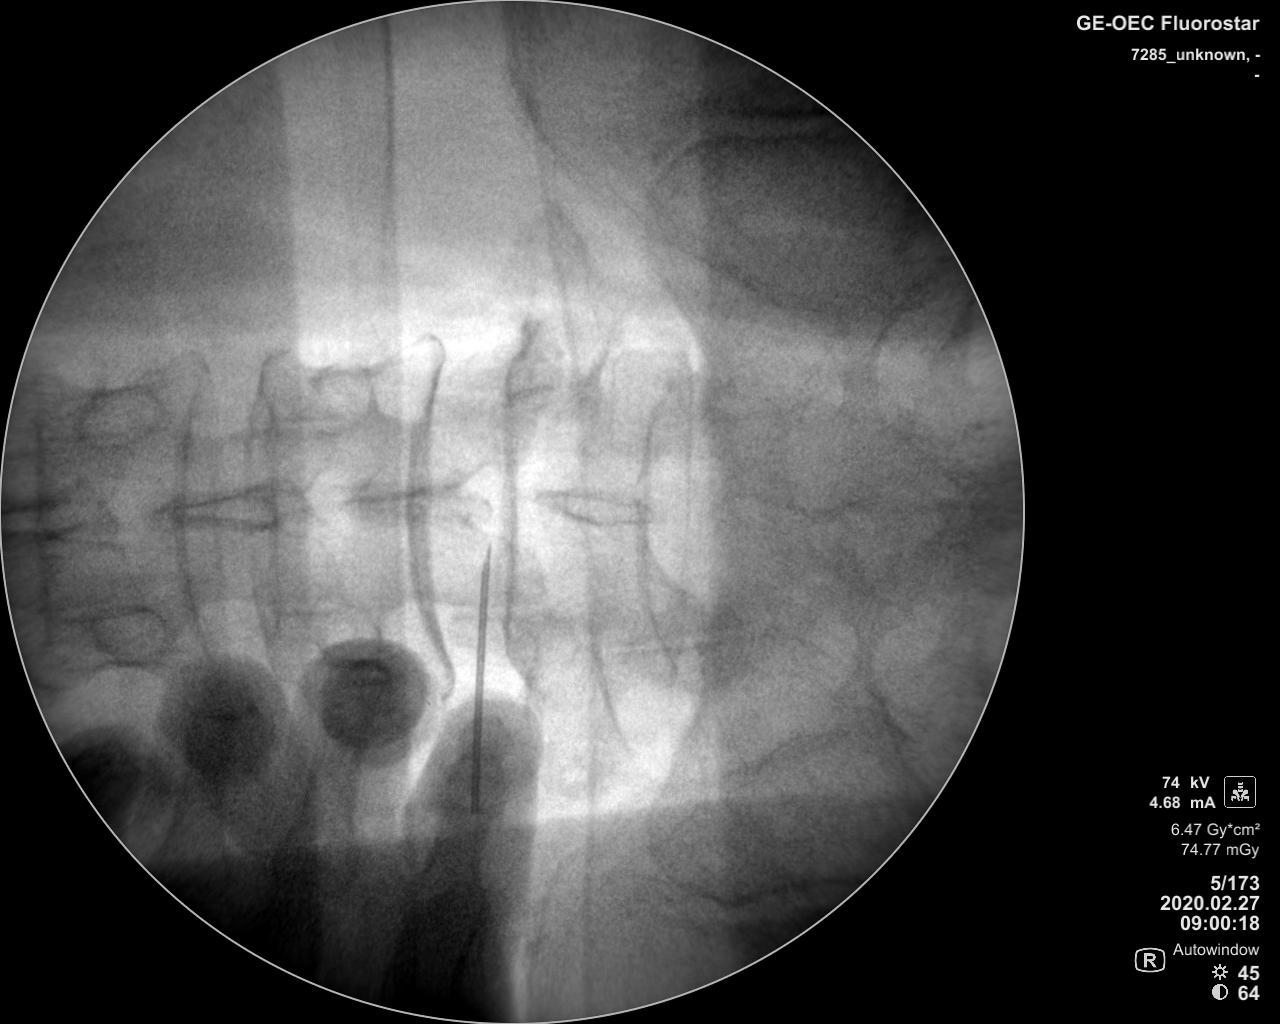eyes: (260, 348, 375, 435), (79, 374, 167, 449), (76, 603, 169, 666)
line: (572, 326, 622, 725), (636, 353, 697, 673), (174, 359, 231, 649), (409, 335, 456, 676), (241, 341, 286, 664), (503, 331, 533, 664), (29, 392, 56, 646)
nose: (145, 474, 313, 531), (341, 488, 496, 530), (2, 491, 115, 546), (527, 483, 664, 528)
